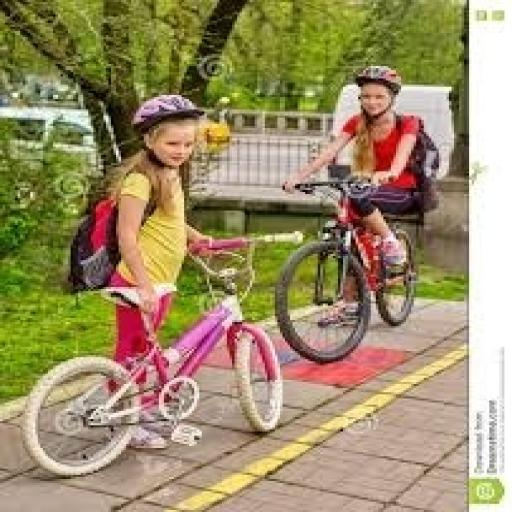cycling: (84, 93, 224, 452), (278, 64, 436, 328)
